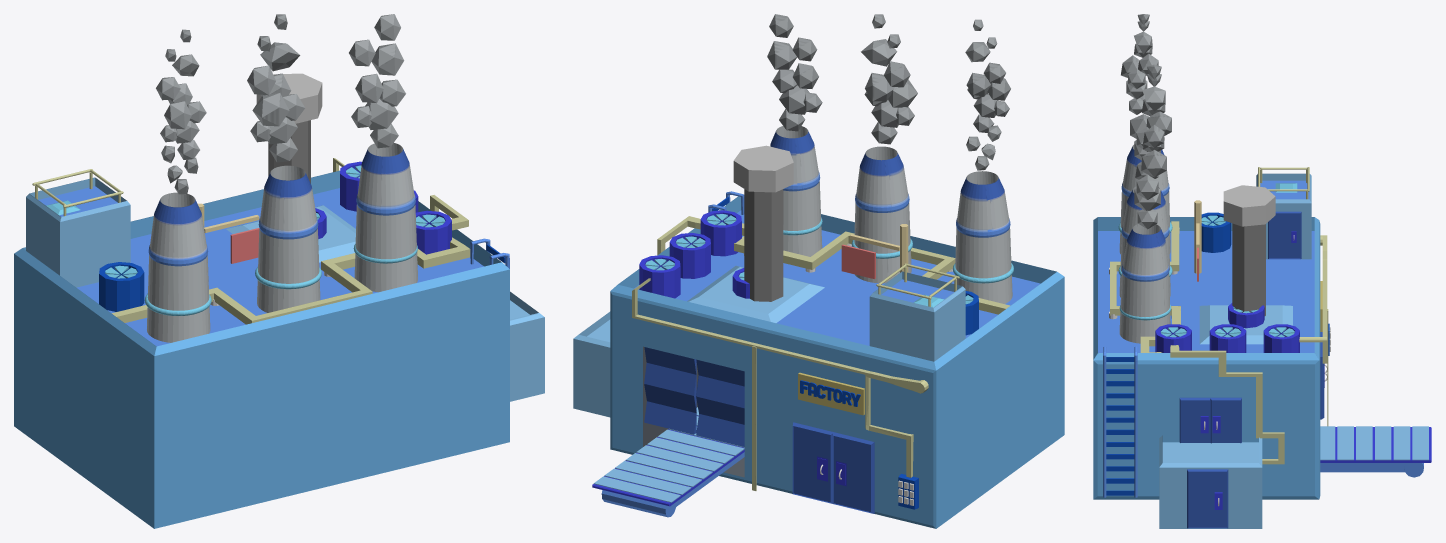
Rendered from building_factory.glb.
The picture shows the model from 3 angles, left to right: view 1: azimuth 30°, elevation 25°; view 2: azimuth 150°, elevation 25°; view 3: azimuth 270°, elevation 25°; orthographic projection. The views are drawn at different scales.
Visible parts, largest first — view 1: Node, building_factory, building_barracks; view 2: Node, building_factory, building_barracks; view 3: Node, building_factory, building_barracks.
Boxes of the visible parts, x1=… form: Node: x1=14, y1=14, x2=544, y2=528; building_factory: x1=256, y1=73, x2=322, y2=183; building_barracks: x1=197, y1=203, x2=259, y2=263; Node: x1=573, y1=14, x2=1064, y2=528; building_factory: x1=733, y1=145, x2=793, y2=301; building_barracks: x1=841, y1=224, x2=908, y2=279; Node: x1=1093, y1=14, x2=1431, y2=528; building_factory: x1=1223, y1=185, x2=1275, y2=315; building_barracks: x1=1194, y1=200, x2=1201, y2=281.
Bounding box in the file's own units: 0.9737 × 0.9786 × 0.8067.
13 materials, 1 textured.
